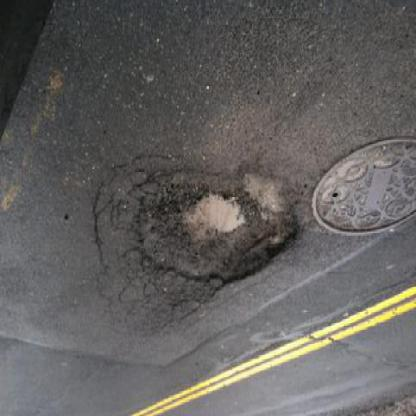pothole: (132, 171, 299, 291)
